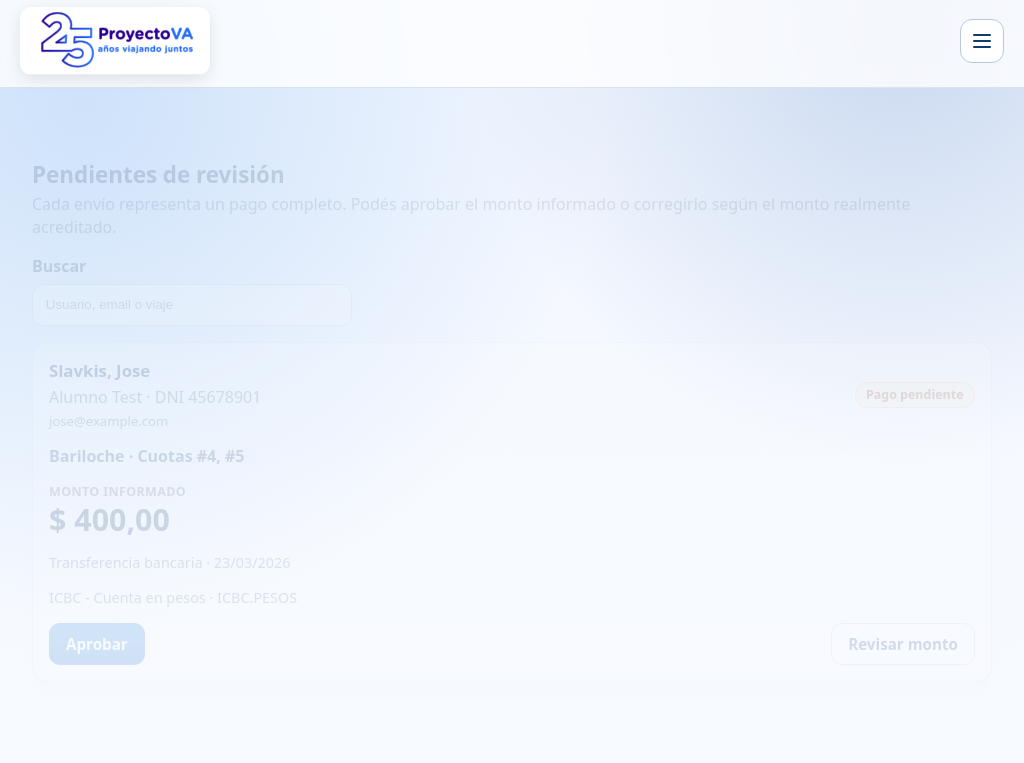
Test case: PendingReviewPage › accepts the maximum persistible amount with an upward correction
The width and height of the screenshot is (1024, 763).
expect the heading "Slavkis, Jose" is shown: met, box [49,359,150,382]
Click the button "Revisar monto". click: (903, 644)
box: [831,623,975,665]
(page scrolled)
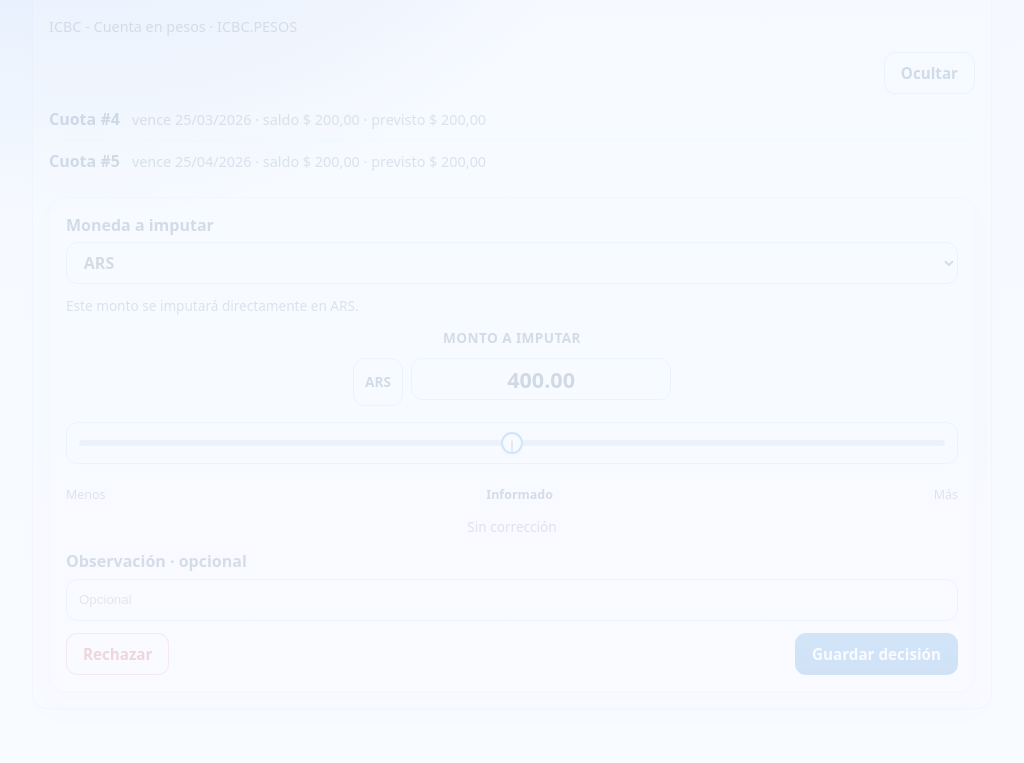
Replace the text in the field named "Monto a imputar" with "99999999.99". click: (541, 379)
box: [411,358,671,400]
(page scrolled)
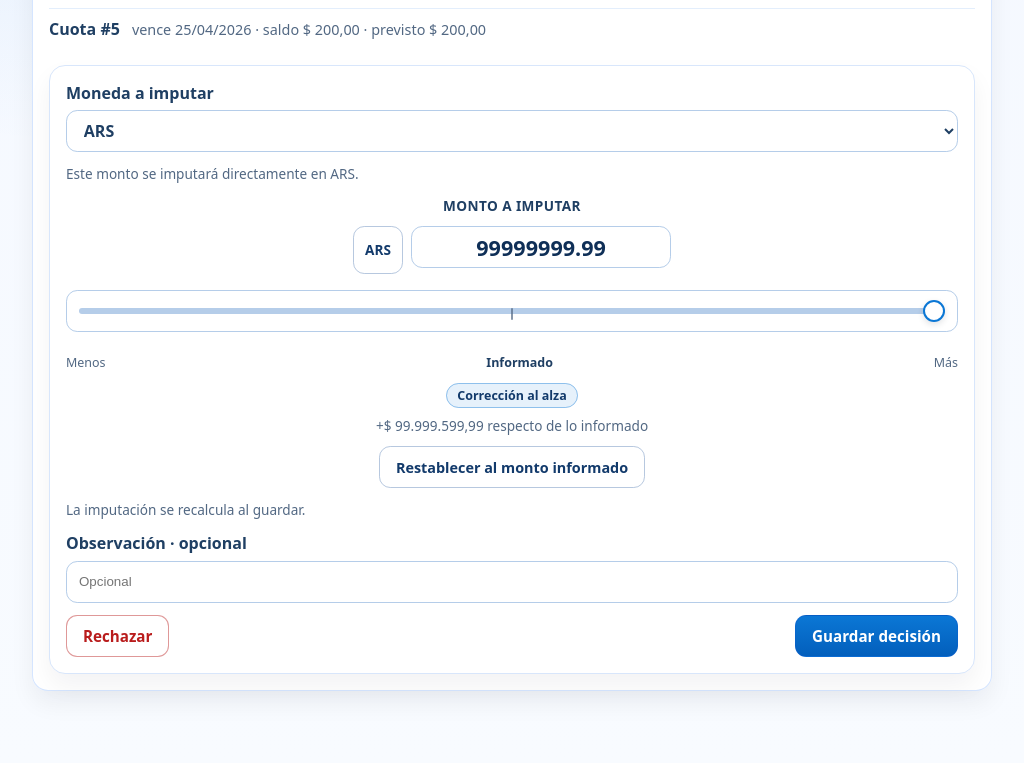
expect the button "Guardar decisión" is enabled: met, box [795,615,958,657]
expect the text "Corrección al alza" is shown: met, box [446,383,578,408]
